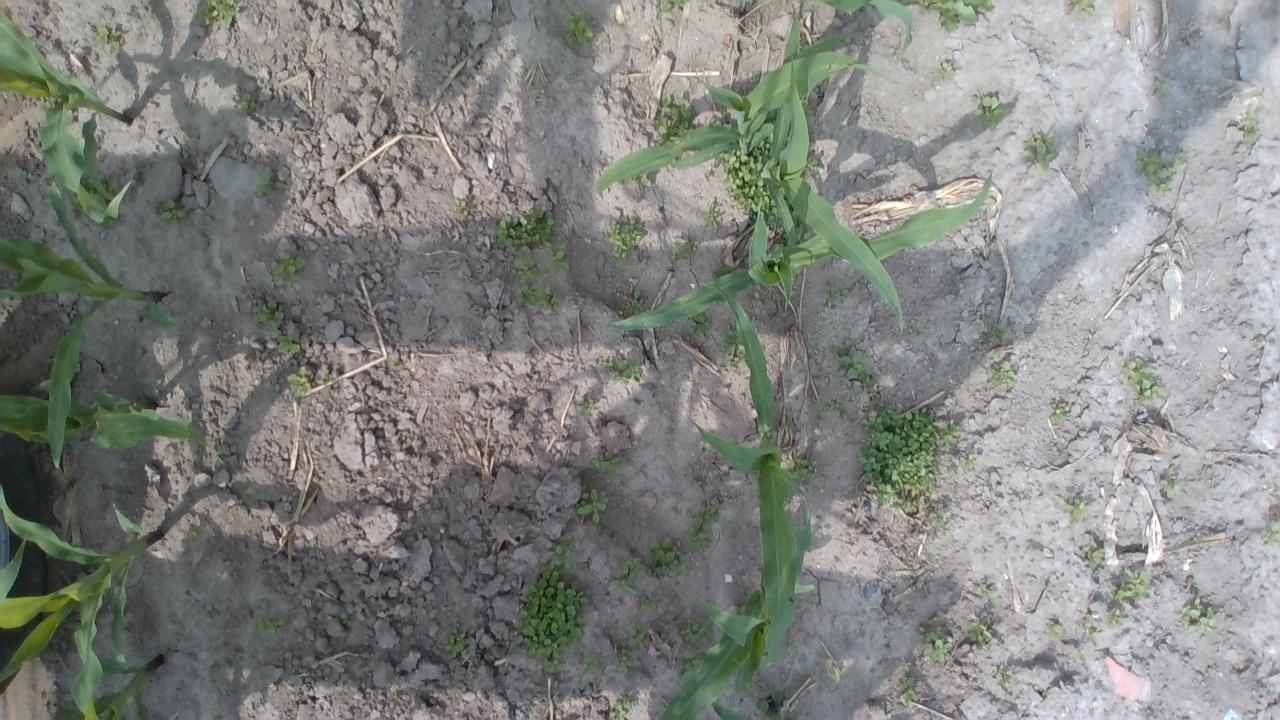Maize: (608, 177, 991, 334), (0, 183, 176, 470), (686, 278, 813, 672), (761, 8, 908, 328), (593, 34, 857, 194), (0, 484, 164, 720), (0, 9, 141, 229), (656, 585, 814, 720), (0, 382, 213, 453), (806, 0, 998, 55), (50, 647, 168, 720), (711, 701, 755, 720)
Weeds: (516, 532, 596, 678), (855, 399, 943, 512), (719, 138, 780, 226), (496, 201, 563, 249), (1136, 148, 1186, 197), (1119, 357, 1167, 408), (830, 342, 876, 392), (606, 216, 646, 268), (656, 94, 696, 144), (686, 499, 720, 555), (1174, 596, 1218, 638), (646, 536, 690, 576), (558, 10, 600, 51), (612, 625, 646, 675), (1022, 130, 1058, 176), (142, 299, 184, 337), (1109, 567, 1149, 604), (574, 485, 610, 526), (195, 0, 241, 32), (972, 91, 1006, 130), (918, 1, 961, 31), (517, 286, 559, 316), (920, 627, 953, 665), (757, 687, 795, 720), (272, 250, 306, 286), (608, 555, 641, 592), (679, 614, 718, 645), (255, 164, 288, 200), (252, 608, 290, 639), (720, 328, 746, 368), (512, 250, 542, 284), (255, 302, 284, 336), (966, 616, 994, 650), (790, 449, 819, 481), (157, 198, 190, 226), (676, 648, 706, 677), (542, 244, 573, 272), (1066, 498, 1096, 526), (445, 629, 473, 658), (613, 354, 642, 382), (609, 692, 638, 720), (286, 365, 311, 397), (93, 25, 120, 54), (990, 360, 1016, 390), (897, 679, 922, 710), (1239, 105, 1261, 140), (596, 452, 624, 479), (977, 323, 1008, 347), (702, 201, 724, 234), (582, 652, 607, 680), (790, 209, 810, 244), (687, 312, 714, 337), (1082, 615, 1104, 645), (90, 173, 121, 194), (994, 668, 1021, 692), (670, 238, 697, 262), (1086, 541, 1108, 570), (941, 420, 962, 450), (58, 188, 82, 212), (929, 512, 953, 536), (709, 263, 740, 281), (1160, 475, 1184, 497), (276, 334, 301, 354), (661, 0, 690, 17), (826, 398, 850, 418), (628, 290, 648, 314), (828, 286, 850, 307), (1262, 520, 1280, 545), (804, 152, 821, 178), (1050, 402, 1070, 424), (637, 590, 659, 610), (452, 196, 471, 219), (1076, 0, 1096, 21), (581, 398, 601, 417), (784, 638, 804, 656), (238, 91, 255, 112), (826, 664, 844, 682), (709, 118, 733, 130), (1106, 607, 1122, 624), (962, 454, 978, 471), (1153, 80, 1169, 97), (978, 584, 994, 600), (1047, 622, 1063, 638), (747, 672, 759, 693), (940, 62, 956, 77), (800, 99, 816, 114), (636, 172, 650, 188), (340, 612, 356, 626), (967, 3, 986, 14), (1078, 648, 1092, 662), (122, 189, 132, 207), (319, 369, 331, 382), (600, 359, 614, 370), (1252, 338, 1262, 352), (323, 385, 332, 400), (790, 286, 798, 302), (908, 328, 920, 338), (738, 0, 752, 8), (206, 666, 218, 674), (1054, 494, 1064, 503), (782, 232, 788, 240)
